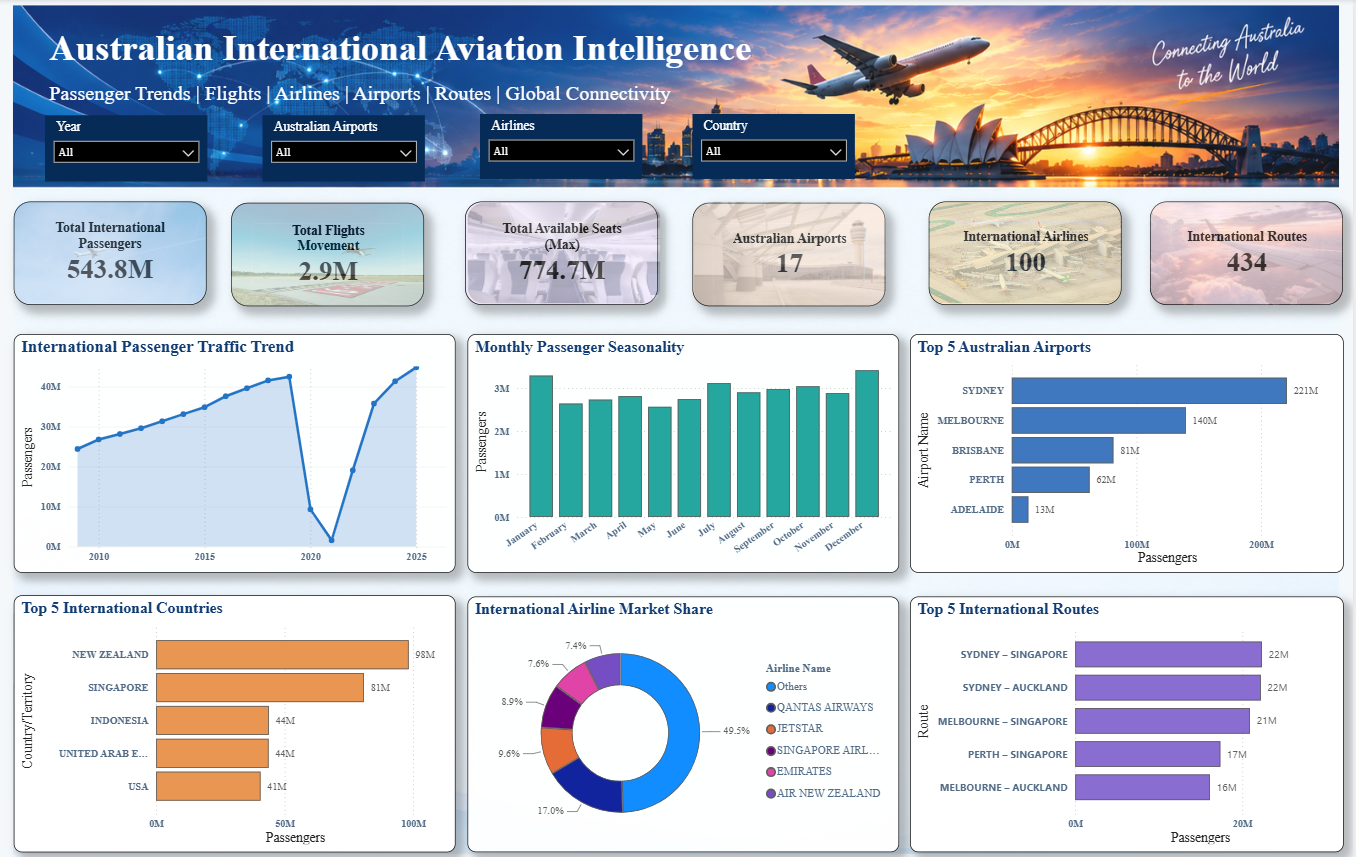

This screenshot's page, from the dashboard's own definition file:
{"tool":"powerbi","page":{"name":"Page 1","canvas":[1600,1024],"ordinal":0},"visuals":[{"type":"textbox","title":"Subtitle","box":[52.9,93.8,747.2,39.3],"z":0},{"type":"textbox","title":"Dashboard Title ","box":[53.2,28.1,845.5,65],"z":1000},{"type":"slicer","fields":{"Values":["Date.Year"]},"box":[52.9,137.6,192.1,78.7],"z":2000},{"type":"slicer","fields":{"Values":["Airport.Airport Name"]},"box":[310.1,137.6,192.1,78.7],"z":3000},{"type":"slicer","fields":{"Values":["public airlines_country.airline"]},"box":[567.2,136.1,192.1,77.1],"z":4000},{"type":"slicer","fields":{"Values":["Country.Country Name"]},"box":[818.3,136.1,192.1,77.1],"z":5000},{"type":"cardVisual","fields":{"Data":["public city_pair.Total Passengers"]},"box":[16.6,239,228.4,122.5],"z":6000},{"type":"cardVisual","fields":{"Data":["public flights_seats.Total Flights"]},"box":[273.8,240.5,228.4,122.5],"z":7000},{"type":"cardVisual","fields":{"Data":["public flights_seats.Total Available Seats (Max)"]},"box":[550.6,239,228.4,122.5],"z":8000},{"type":"cardVisual","fields":{"Data":["public city_pair.Australian Airports"]},"box":[818.3,240.5,228.4,122.5],"z":9000},{"type":"cardVisual","fields":{"Data":["public airlines_country.International Airlines"]},"box":[1098.1,239,228.4,122.5],"z":10000},{"type":"cardVisual","fields":{"Data":["public city_pair.International Routes"]},"box":[1359.8,239,228.4,122.5],"z":11000},{"type":"image","box":[16.6,239,228.4,121],"z":12000},{"type":"image","box":[273.8,240.5,228.4,122.5],"z":13000},{"type":"image","box":[552.1,240.5,228.4,119.5],"z":14000},{"type":"image","box":[819.8,239,226.9,124],"z":15000},{"type":"image","box":[1098.1,240.5,228.4,119.5],"z":16000},{"type":"image","box":[1359.8,239,228.4,122.5],"z":17000},{"type":"lineChart","title":"International Passenger Traffic Trend","fields":{"Category":["Date.Year"],"Y":["public city_pair.Total Passengers"]},"box":[16.8,395.5,522.2,282.5],"z":17001},{"type":"clusteredColumnChart","title":"Monthly Passenger Seasonality","fields":{"Category":["Date.Month Name"],"Y":["public city_pair.Average Monthly Passengers (Excl COVID)"]},"box":[552.8,395.5,510,282.5],"z":17002},{"type":"clusteredBarChart","title":"Top 5 Australian Airports","fields":{"Category":["Airport.Airport Name"],"Y":["public city_pair.Total Passengers"]},"box":[1076.5,395.5,513.1,282.5],"z":17003},{"type":"clusteredBarChart","title":"Top 5 International Countries","fields":{"Y":["public city_pair.Total Passengers"],"Category":["Country.Country Name"]},"box":[16.8,705.5,522.2,303.9],"z":17004},{"type":"donutChart","title":"International Airline Market Share","fields":{"Category":["Airline Display.Airline Name"],"Y":["Airline Display.Airline Share Donut Passengers"]},"box":[552.8,707,510,302.3],"z":17005},{"type":"clusteredBarChart","title":"Top 5 International Routes","fields":{"Category":["public city_pair.Route"],"Y":["public city_pair.Total Passengers"]},"box":[1076.5,707,513.1,302.3],"z":17006}]}

Visuals, with their boxes in screenshot pixels (x1, y1, x2, y2), scaled from the page's 1600x1024 canvas onto the 1356x857 screenshot:
"Subtitle" textbox: [x1=45, y1=79, x2=678, y2=111]
"Dashboard Title " textbox: [x1=45, y1=24, x2=762, y2=78]
slicer - Date.Year: [x1=45, y1=115, x2=208, y2=181]
slicer - Airport.Airport Name: [x1=263, y1=115, x2=426, y2=181]
slicer - public airlines_country.airline: [x1=481, y1=114, x2=644, y2=178]
slicer - Country.Country Name: [x1=694, y1=114, x2=856, y2=178]
cardVisual - public city_pair.Total Passengers: [x1=14, y1=200, x2=208, y2=303]
cardVisual - public flights_seats.Total Flights: [x1=232, y1=201, x2=426, y2=304]
cardVisual - public flights_seats.Total Available Seats (Max): [x1=467, y1=200, x2=660, y2=303]
cardVisual - public city_pair.Australian Airports: [x1=694, y1=201, x2=887, y2=304]
cardVisual - public airlines_country.International Airlines: [x1=931, y1=200, x2=1124, y2=303]
cardVisual - public city_pair.International Routes: [x1=1152, y1=200, x2=1346, y2=303]
image: [x1=14, y1=200, x2=208, y2=301]
image: [x1=232, y1=201, x2=426, y2=304]
image: [x1=468, y1=201, x2=661, y2=301]
image: [x1=695, y1=200, x2=887, y2=304]
image: [x1=931, y1=201, x2=1124, y2=301]
image: [x1=1152, y1=200, x2=1346, y2=303]
"International Passenger Traffic Trend" lineChart: [x1=14, y1=331, x2=457, y2=567]
"Monthly Passenger Seasonality" clusteredColumnChart: [x1=468, y1=331, x2=901, y2=567]
"Top 5 Australian Airports" clusteredBarChart: [x1=912, y1=331, x2=1347, y2=567]
"Top 5 International Countries" clusteredBarChart: [x1=14, y1=590, x2=457, y2=845]
"International Airline Market Share" donutChart: [x1=468, y1=592, x2=901, y2=845]
"Top 5 International Routes" clusteredBarChart: [x1=912, y1=592, x2=1347, y2=845]
